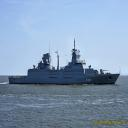Fragata: (9, 38, 122, 87)
